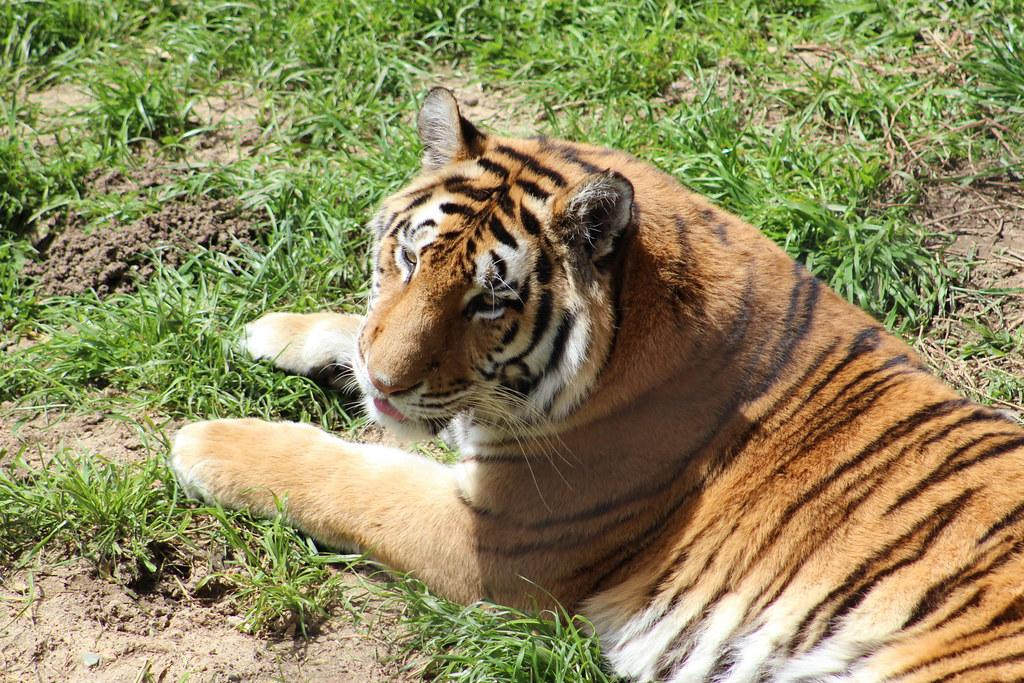tiger: (169, 86, 1023, 682)
